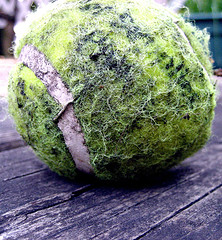tennis ball: (3, 1, 221, 183)
